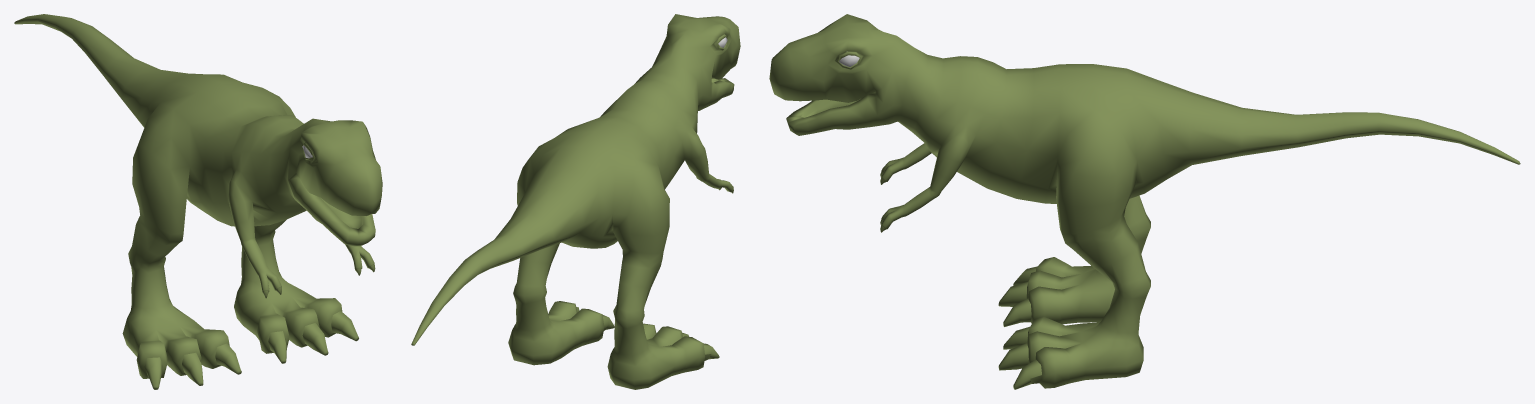
The model's file is tyrannosaur_detailed.FBX.
The picture shows the model from 3 angles, left to right: view 1: azimuth 30°, elevation 25°; view 2: azimuth 150°, elevation 25°; view 3: azimuth 270°, elevation 25°; orthographic projection. The views are drawn at different scales.
Parts seen in each view (by area): view 1: Box001; view 2: Box001; view 3: Box001.
Part boxes in pixels (x1=…): Box001: x1=14, y1=14, x2=382, y2=389; Box001: x1=411, y1=14, x2=740, y2=389; Box001: x1=769, y1=14, x2=1520, y2=389.
Size of the model in its own units: 119 by 163 by 357.
